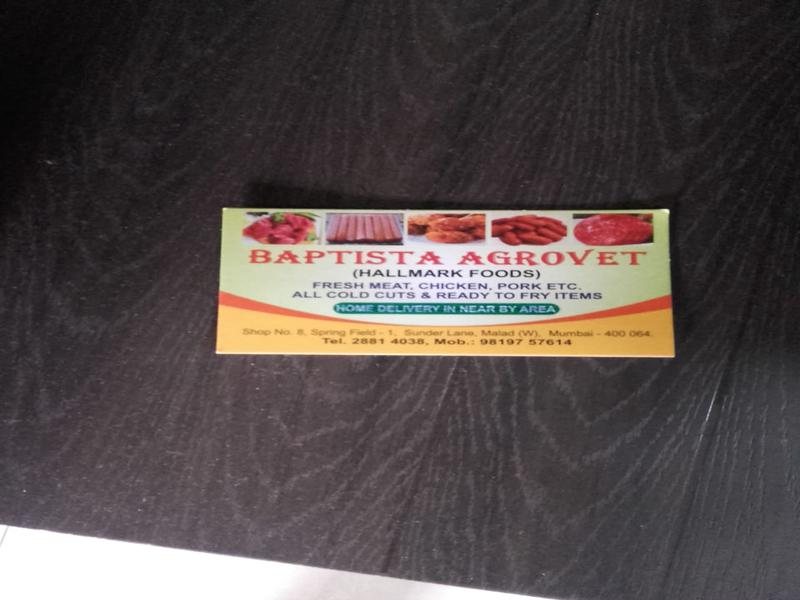card: (212, 204, 678, 361)
